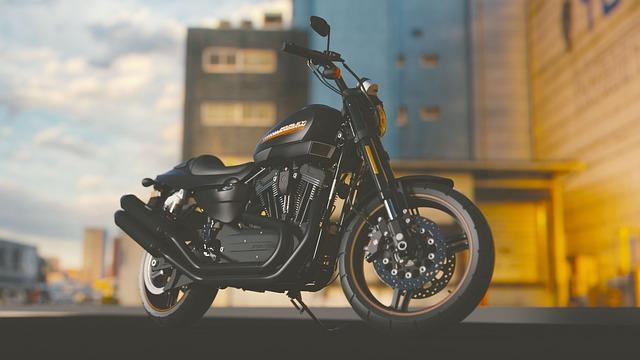Non_Gorille: (73, 0, 556, 360)
